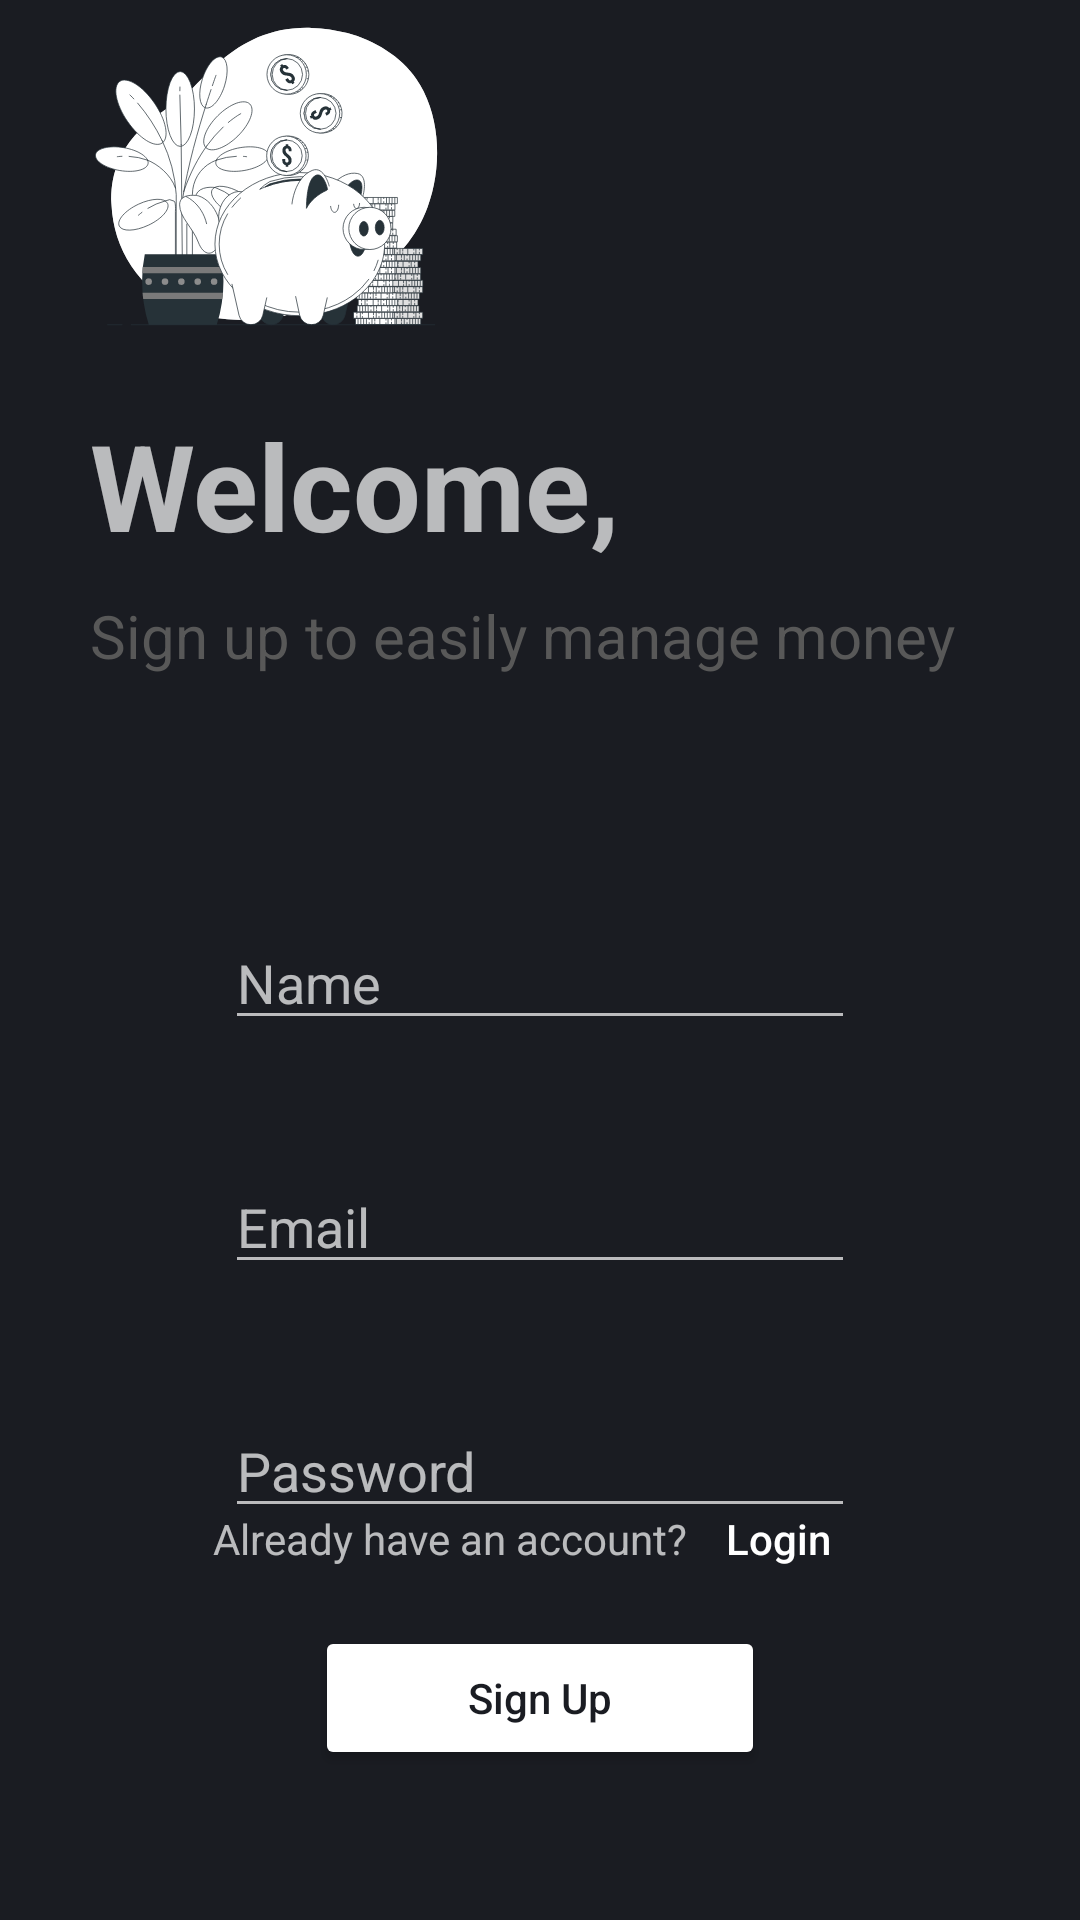

Named icons in this screenshot (1080w x 1920h) and their bounding boxes, (x1, y1, x2, y2):
register concept illustration: (95, 27, 438, 325)
